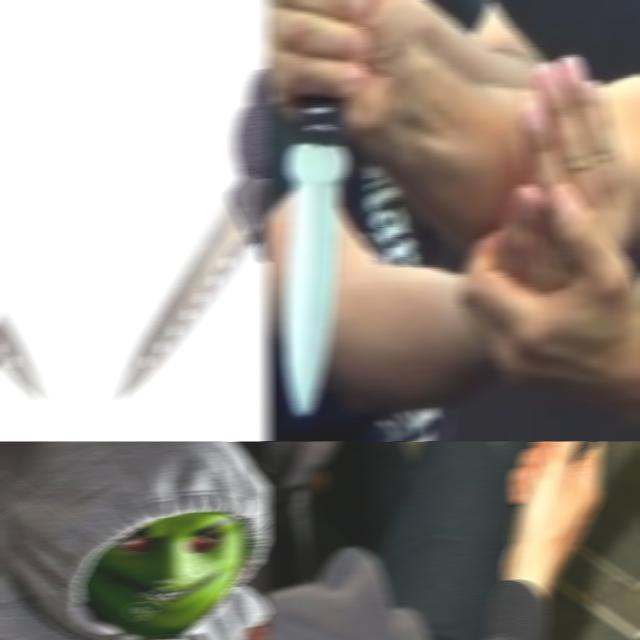Knife: (120, 175, 269, 398), (280, 98, 350, 416)
Knife_Handle: (108, 0, 270, 421), (266, 0, 406, 412), (503, 441, 640, 577)
